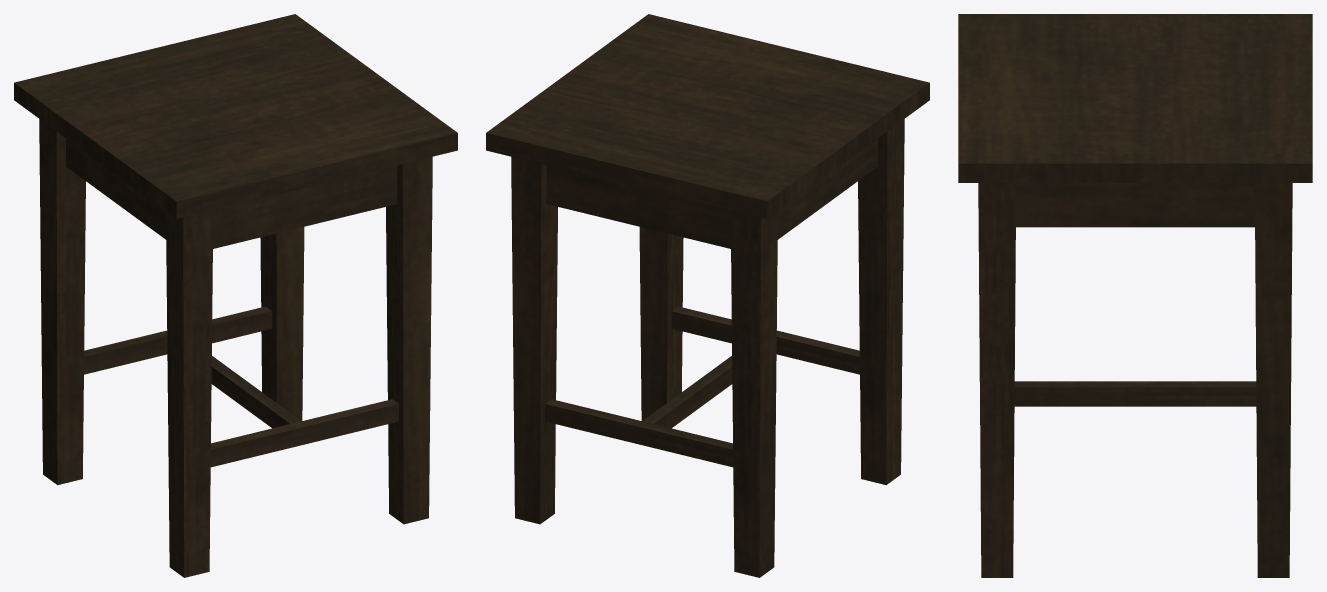
The model's file is chair_mp_1_3.fbx.
3 renders of one model, left to right at view 1: azimuth 30°, elevation 25°; view 2: azimuth 150°, elevation 25°; view 3: azimuth 270°, elevation 25°, orthographic. The views are drawn at different scales.
Parts seen in each view (by area): view 1: chair_mp_1_3; view 2: chair_mp_1_3; view 3: chair_mp_1_3.
Boxes of the visible parts, left/top/right/bottom form: chair_mp_1_3: left=14, top=14, right=457, bottom=577; chair_mp_1_3: left=486, top=14, right=929, bottom=577; chair_mp_1_3: left=958, top=14, right=1312, bottom=577.
Size of the model in its own units: 0.5 by 0.5 by 0.66.
